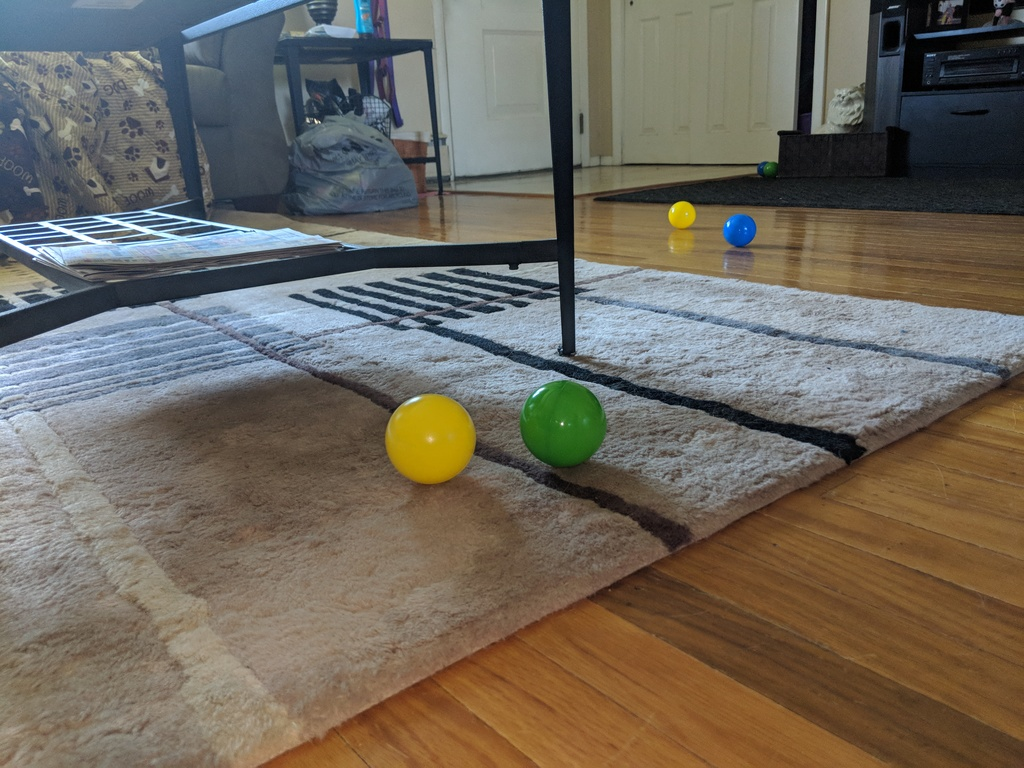ball: (668, 200, 696, 228)
